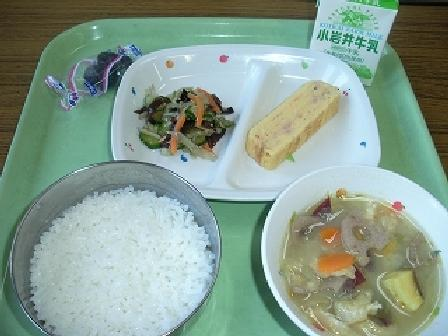Bread: (234, 75, 358, 173)
Milk: (306, 0, 401, 76)
Rice: (9, 162, 219, 334)
Salad: (131, 77, 227, 162)
Soups: (266, 175, 446, 335)
